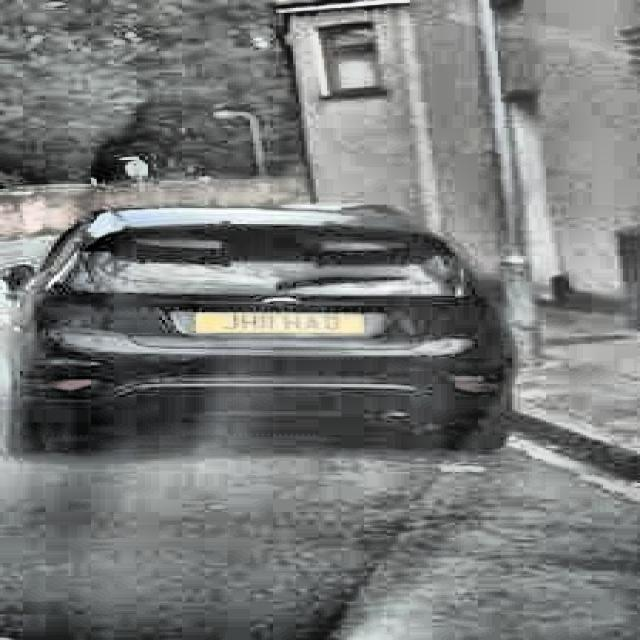license_plate: (173, 308, 374, 339)
